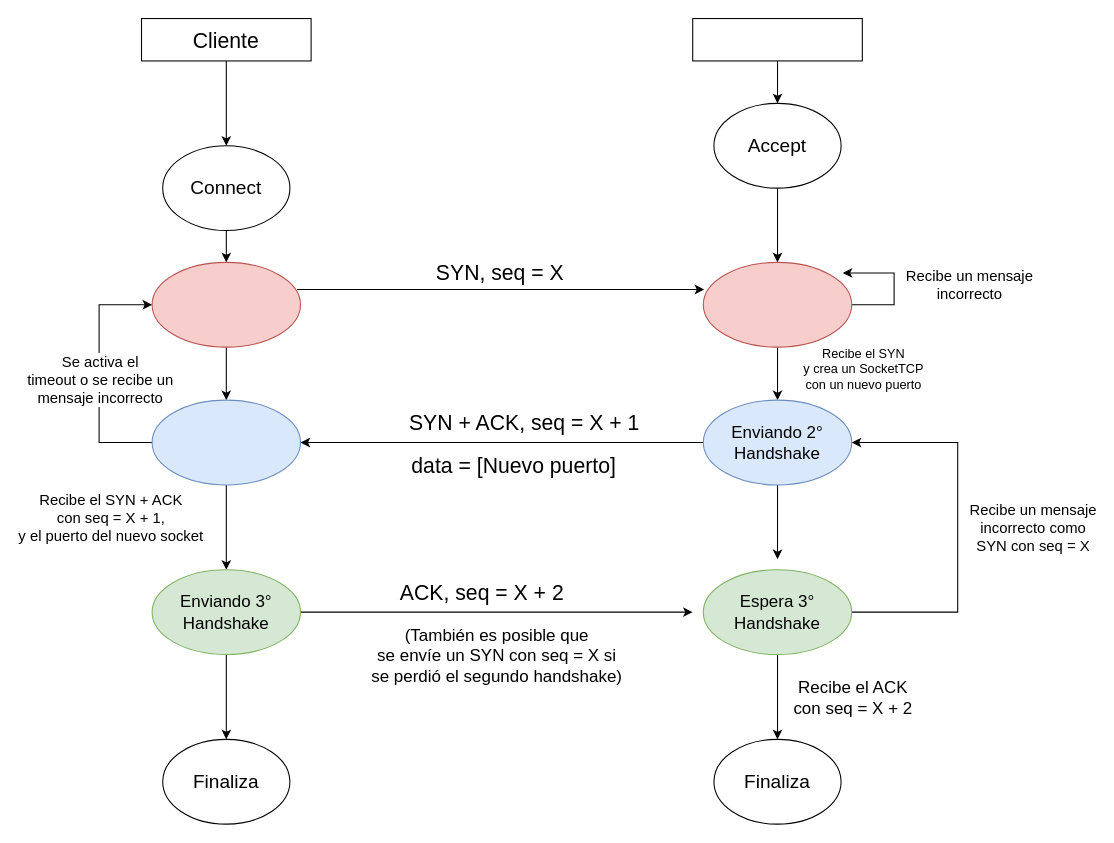
Some shapes in this 1114 by 843 pixel diagram are drawn without their labels. Each missing label, with the box of its shape:
Enviando 1° Handshake: (151, 261, 301, 347)
Espera 1° Handshake: (702, 261, 852, 347)
Espera 2° Handshake: (151, 399, 301, 485)
Servidor: (692, 17, 862, 61)
